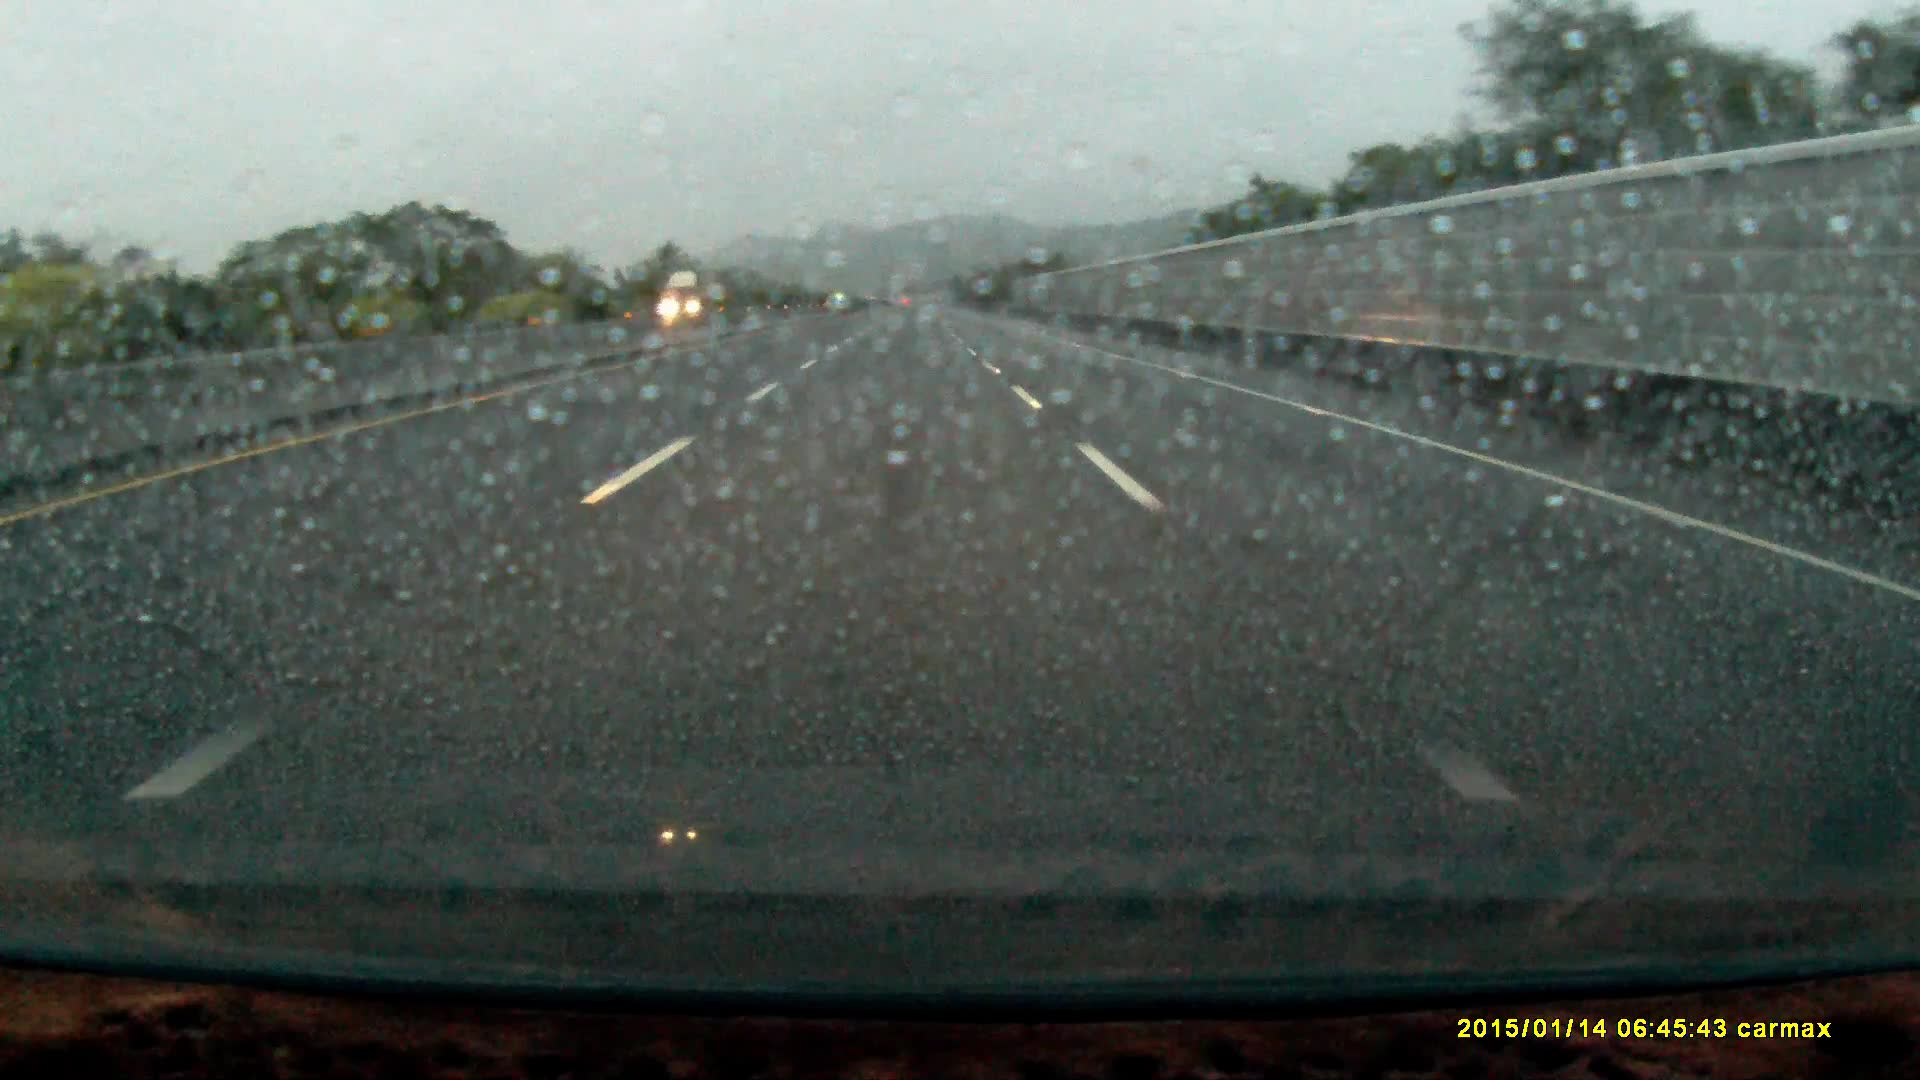vehicle: (659, 270, 723, 318)
